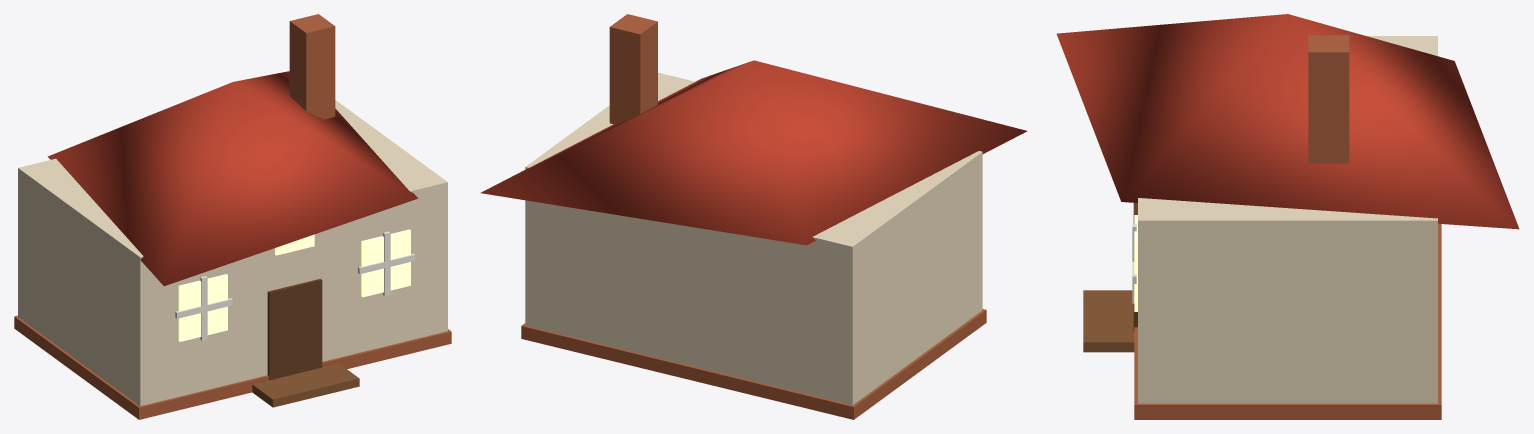
The model's file is Escenario.fbx.
3 views of the same model, side by side, from view 1: azimuth 30°, elevation 25°; view 2: azimuth 150°, elevation 25°; view 3: azimuth 270°, elevation 25° (orthographic). The views are drawn at different scales.
Parts seen in each view (by area): view 1: Casa_cube, Casa_cone, Casa_cube.001, Casa_cube.002, Casa_cube.010, Casa_cube.011, Casa_cube.003, Casa_cube.006, Casa_cube.008, Casa_cube.005, Casa_cube.004, Casa_cube.007 (+1 smaller); view 2: Casa_cube, Casa_cone, Casa_cube.001, Casa_cube.010; view 3: Casa_cone, Casa_cube, Casa_cube.001, Casa_cube.010, Casa_cube.011.
Part boxes in pixels (bbox=[...]): Casa_cube: bbox=[18, 100, 447, 406]; Casa_cone: bbox=[47, 71, 417, 286]; Casa_cube.001: bbox=[14, 315, 451, 419]; Casa_cube.002: bbox=[267, 279, 322, 380]; Casa_cube.010: bbox=[289, 14, 335, 119]; Casa_cube.011: bbox=[252, 363, 359, 407]; Casa_cube.003: bbox=[178, 274, 227, 341]; Casa_cube.006: bbox=[361, 229, 410, 297]; Casa_cube.008: bbox=[383, 231, 390, 296]; Casa_cube.005: bbox=[200, 276, 207, 340]; Casa_cube.004: bbox=[175, 298, 232, 318]; Casa_cube.007: bbox=[358, 253, 415, 274]; Casa_cube: bbox=[525, 72, 982, 405]; Casa_cone: bbox=[480, 60, 1027, 245]; Casa_cube.001: bbox=[521, 309, 986, 419]; Casa_cube.010: bbox=[609, 14, 657, 124]; Casa_cone: bbox=[1056, 14, 1519, 229]; Casa_cube: bbox=[1138, 36, 1437, 403]; Casa_cube.001: bbox=[1134, 223, 1441, 419]; Casa_cube.010: bbox=[1308, 35, 1349, 163]; Casa_cube.011: bbox=[1083, 290, 1134, 352].
Size of the model in its own units: 6.79 by 5.7 by 6.79.
